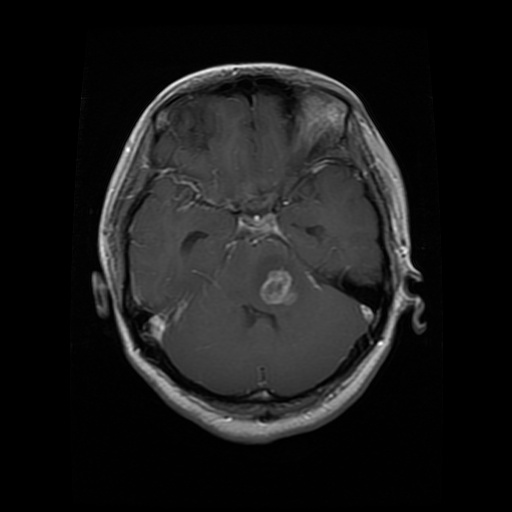glioma: (259, 266, 297, 307)
